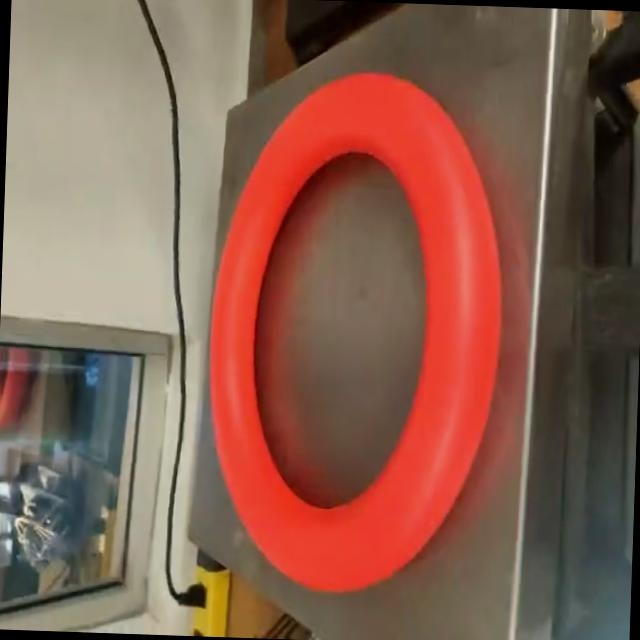note: (196, 71, 512, 599), (0, 347, 32, 430)
